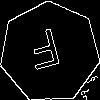F: (24, 27, 66, 80)
